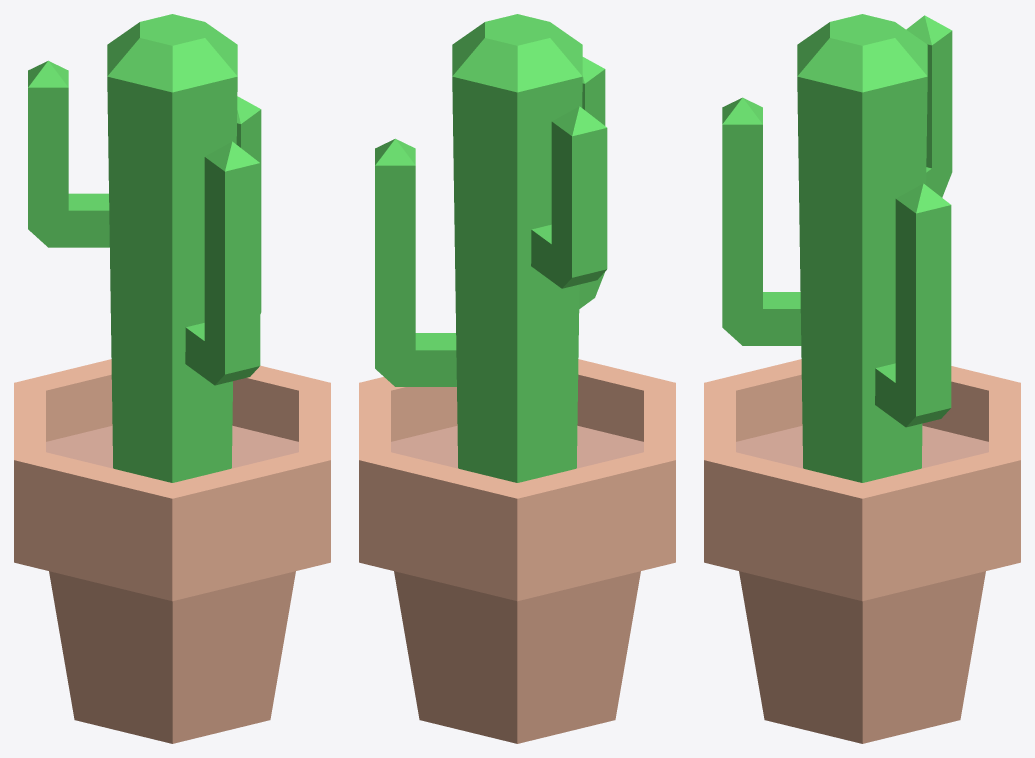
File: cactus.glb
3 renders of one model, left to right at view 1: azimuth 30°, elevation 25°; view 2: azimuth 150°, elevation 25°; view 3: azimuth 270°, elevation 25°, orthographic.
Parts seen in each view (by area): view 1: pot_small, cactus_tall; view 2: pot_small, cactus_tall; view 3: pot_small, cactus_tall.
Boxes of the visible parts, x1,y1,x2,y2 form: pot_small: (14,359,330,743); cactus_tall: (28,14,261,482); pot_small: (359,359,675,743); cactus_tall: (375,14,607,482); pot_small: (704,359,1020,743); cactus_tall: (722,14,952,482).
Bounding box in the file's own units: 0.5971 × 1.2 × 0.5171.
